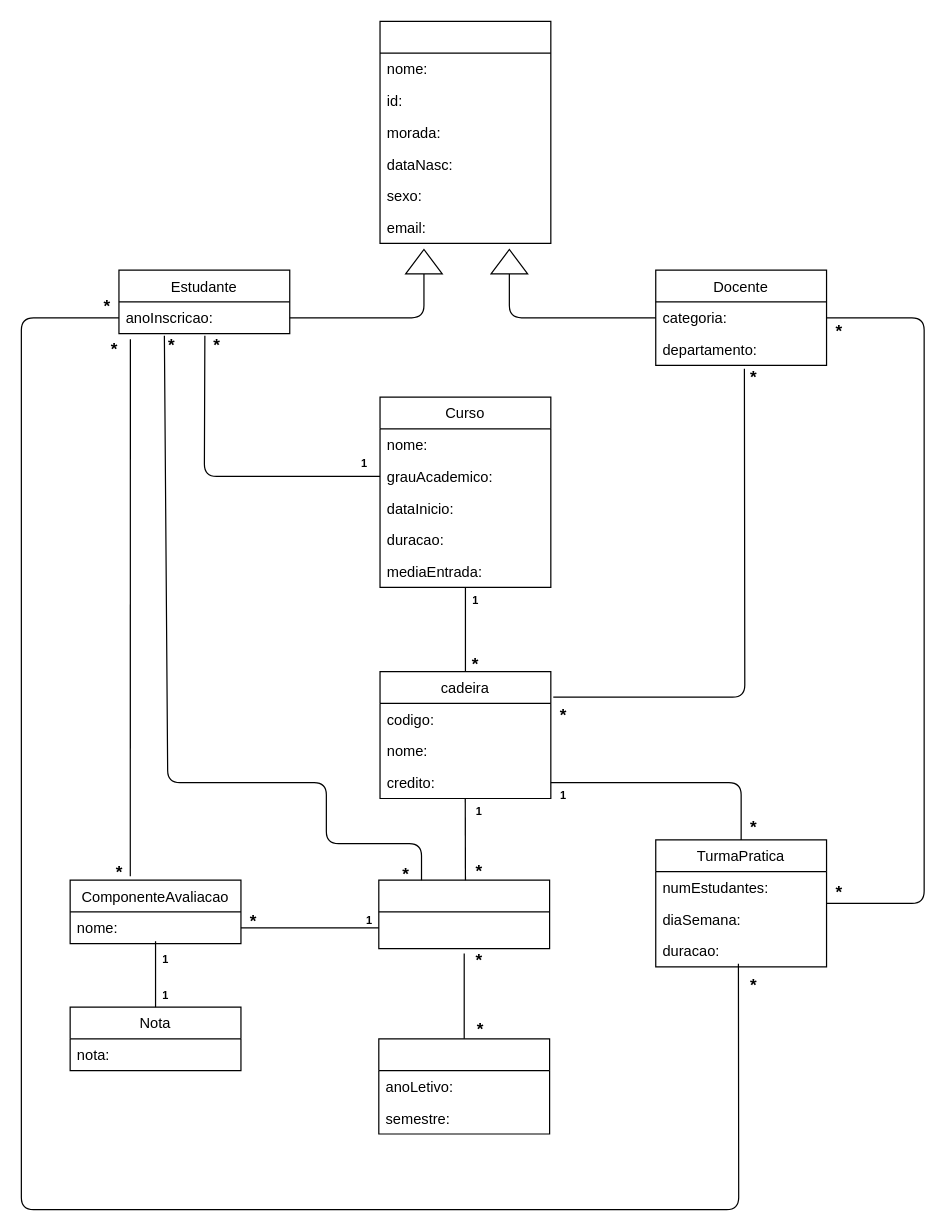
The diagram is 947 pixels wide and 1232 high, and some of its shapes have lost their labels. Here are the shapes that lost their labels. From the top down, the box of each, then its label:
(379, 20, 551, 243): PessoaFeup
(378, 879, 550, 949): OcorrenciaCadeira
(378, 1038, 550, 1134): Epoca
